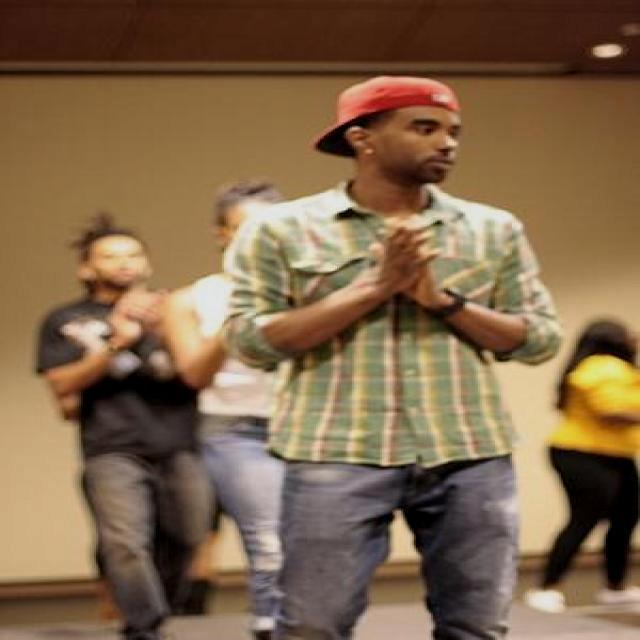no_vest: (248, 168, 530, 471), (44, 284, 212, 463), (557, 348, 640, 463)
